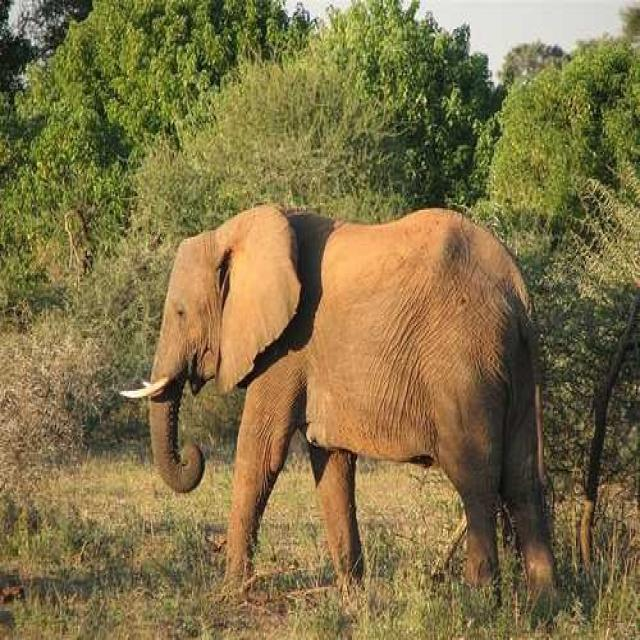Elephant: (119, 202, 557, 608)
